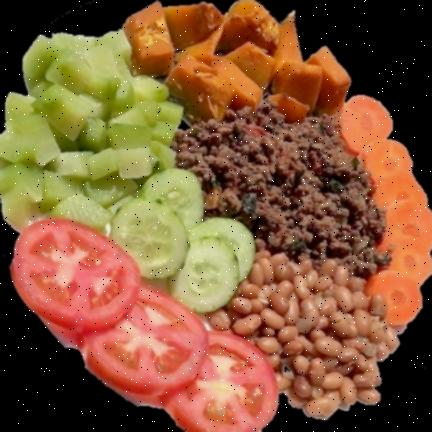beans: (219, 251, 397, 408)
carrot: (341, 95, 432, 324)
cucumber: (111, 168, 254, 311)
green_vegetables: (0, 30, 181, 230)
meat: (173, 101, 385, 279)
tomato: (10, 219, 278, 432)
